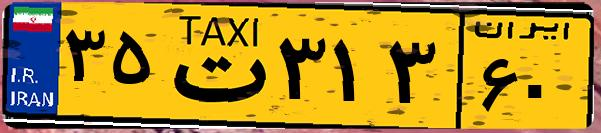0: (525, 38, 570, 115)
1: (330, 28, 385, 110)
3: (270, 28, 330, 110), (385, 28, 445, 110), (57, 26, 110, 100)
5: (110, 28, 158, 98)
6: (475, 38, 525, 113)
ت: (158, 12, 270, 120)
